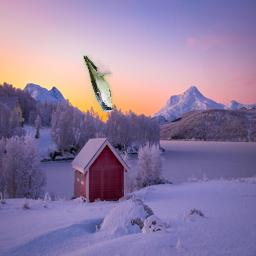Swallow: (83, 56, 113, 113)
